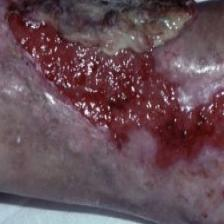wound-ulser: (0, 0, 224, 192)
